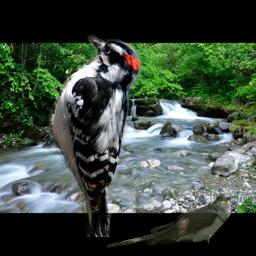Cuckoo: (106, 192, 231, 249)
Woodpecker: (48, 34, 144, 237)
